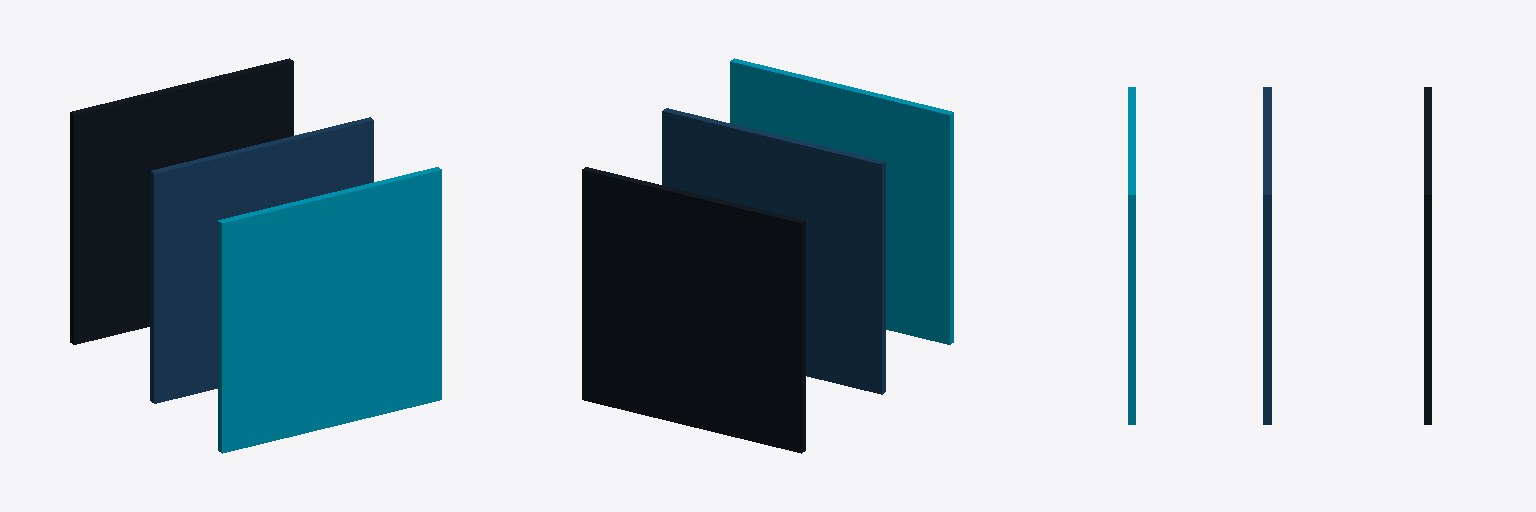
Rendered from PlayerFog.obj.
3 views of the same model, side by side, from view 1: azimuth 30°, elevation 25°; view 2: azimuth 150°, elevation 25°; view 3: azimuth 270°, elevation 25° (orthographic).
Parts seen in each view (by area): view 1: pCube1, pCube2, pCube3; view 2: pCube2, pCube3, pCube1; view 3: pCube3, pCube1, pCube2.
Boxes of the visible parts, <box> form: pCube1: <box>218,167,441,453</box>; pCube2: <box>70,58,293,344</box>; pCube3: <box>150,117,373,403</box>; pCube2: <box>582,167,805,453</box>; pCube3: <box>662,108,885,394</box>; pCube1: <box>730,58,953,344</box>; pCube3: <box>1263,87,1271,424</box>; pCube1: <box>1128,87,1135,424</box>; pCube2: <box>1424,87,1431,424</box>.
Size of the model in its own units: 30 by 30 by 36.